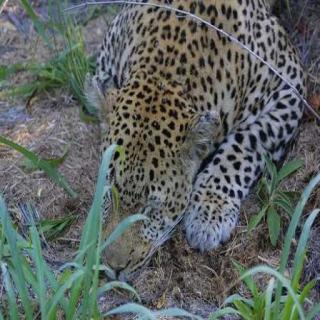Leopard: (77, 26, 320, 252)
